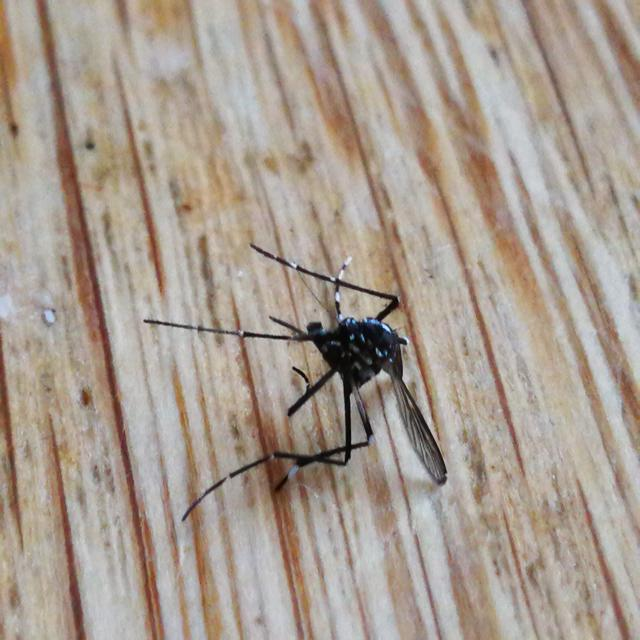albopictus: (154, 211, 458, 527)
